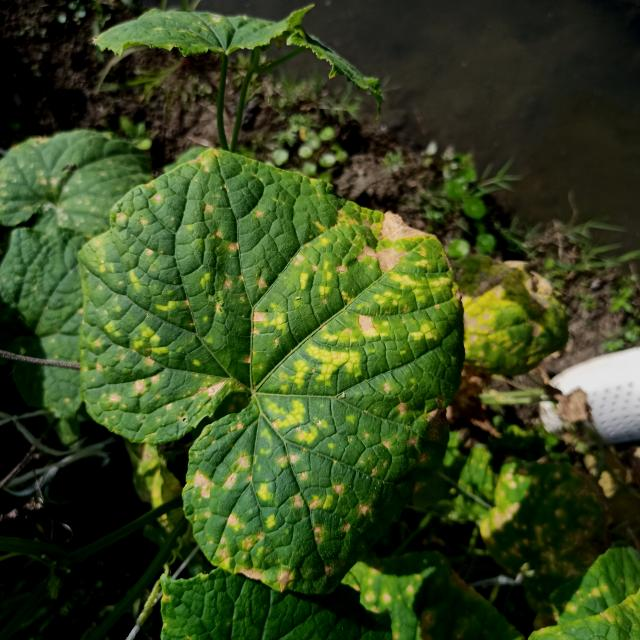disease_cucumber: (92, 175, 456, 589)
